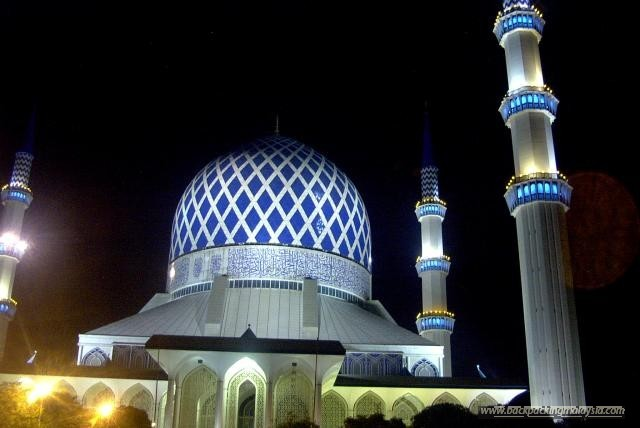Mosque: (19, 14, 573, 406)
